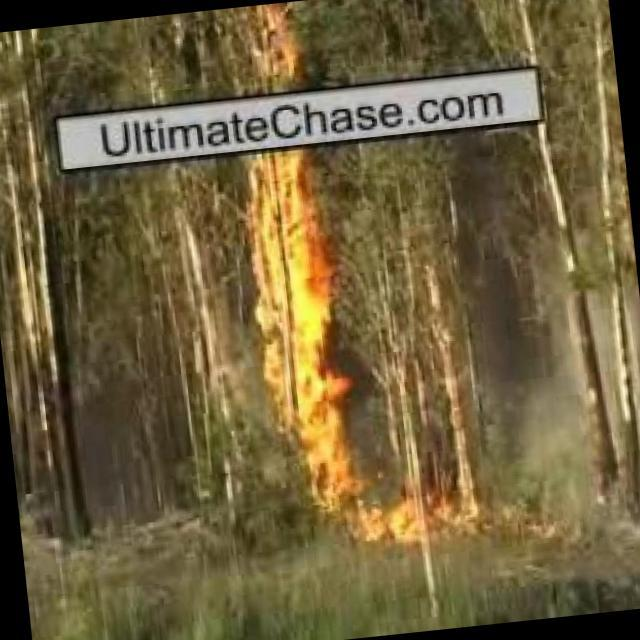Fire: (266, 363, 471, 556), (244, 159, 338, 364), (246, 3, 304, 84)
